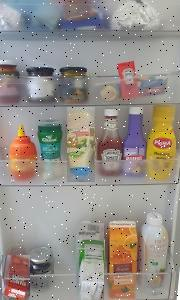Leche: (76, 223, 104, 300)
Mayonesa: (68, 107, 96, 182)
Salsa de tomate: (2, 255, 30, 300)
